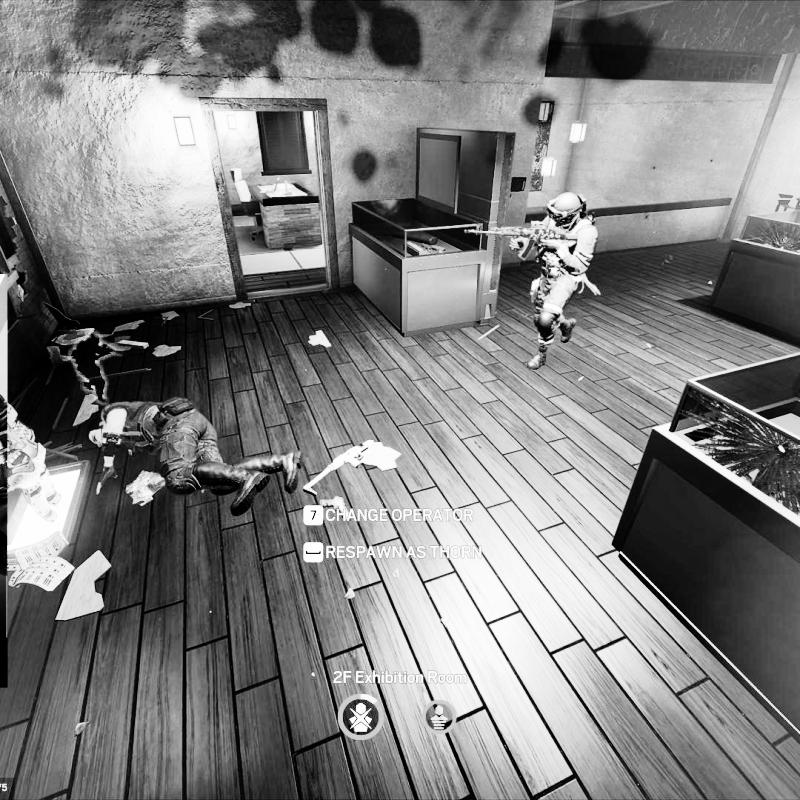Character: (85, 397, 304, 518), (463, 190, 602, 373)
Head: (547, 190, 587, 229), (88, 421, 104, 445)
